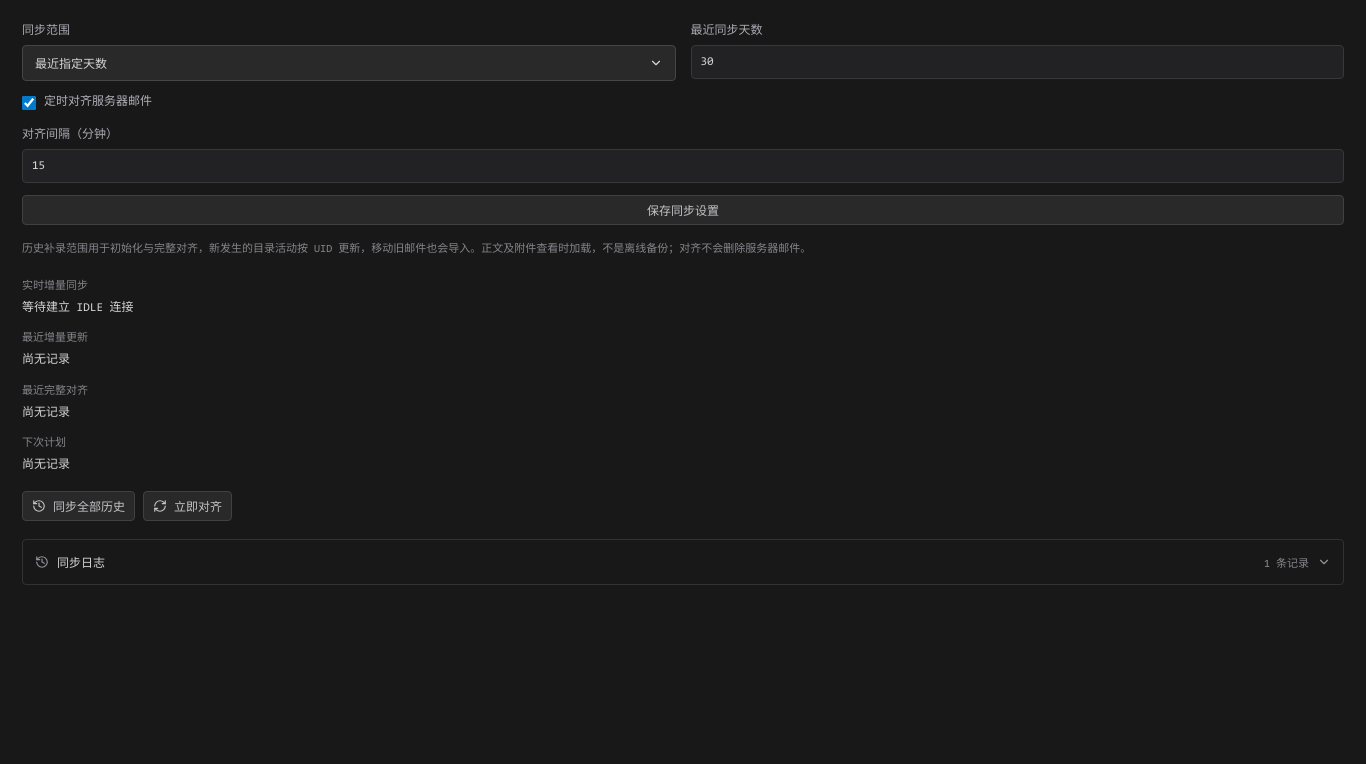
Test: 目录任务归入增量日志并显示 UID 范围和事件原因
Click the text "同步日志".
click(81, 562)  # box x1=57 y1=553 x2=105 y2=571
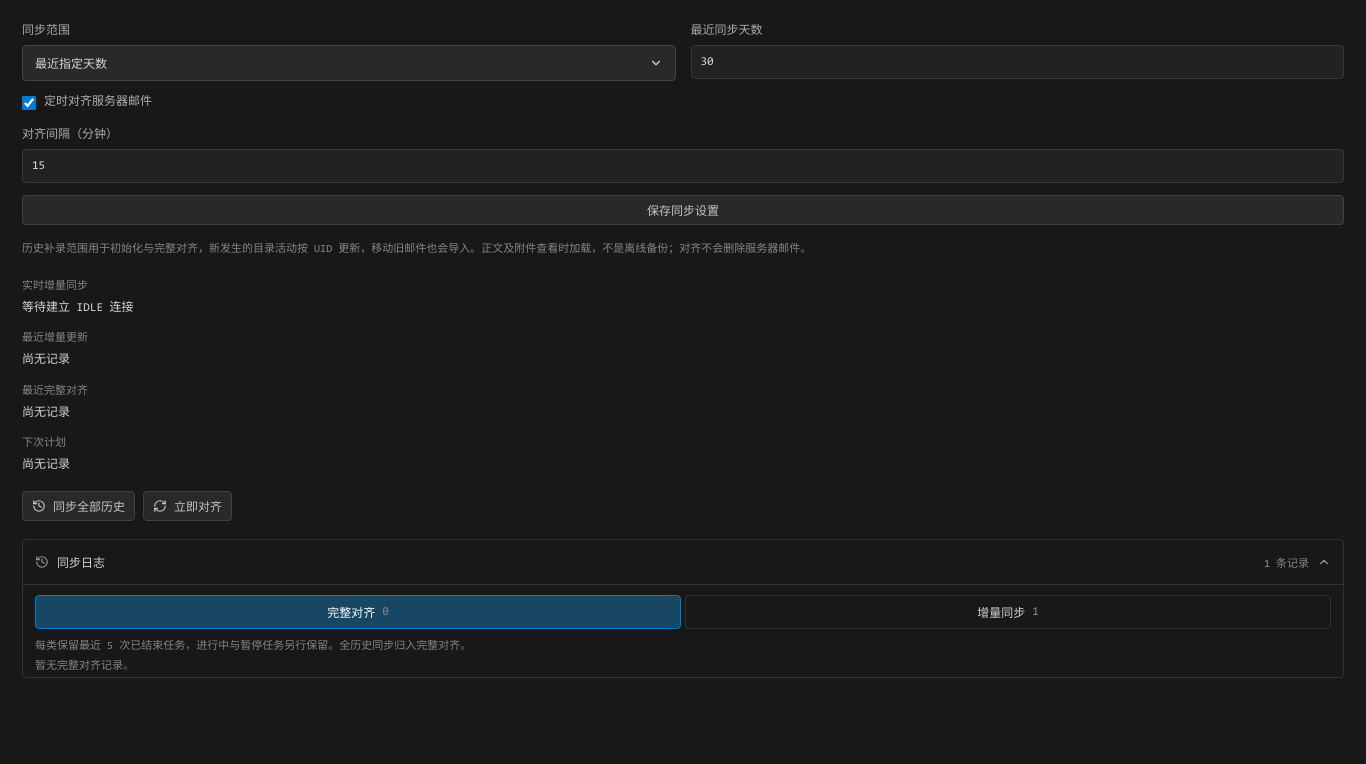
Expected: the button "目录增量" is not shown
Click the tab "增量同步 1".
click(1008, 612)  # box x1=685 y1=595 x2=1331 y2=629
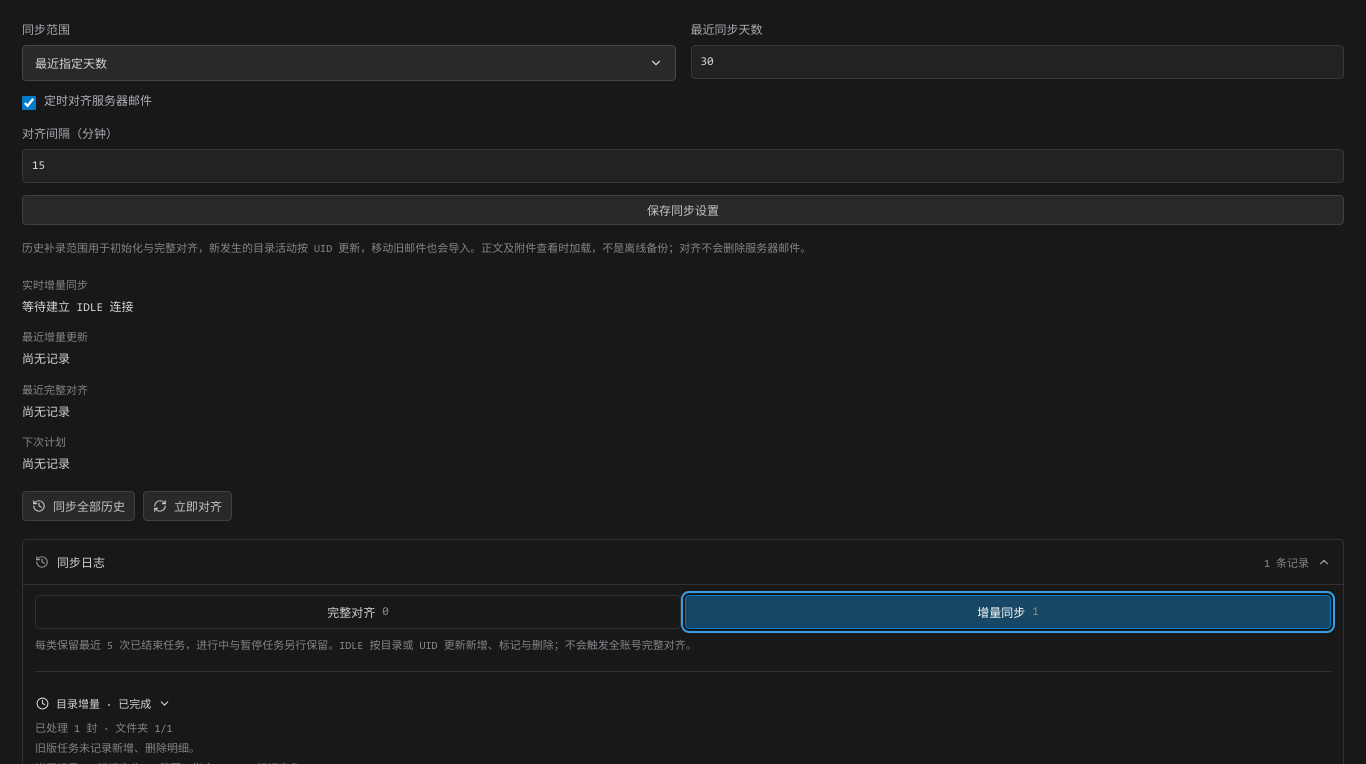
Expected: the tab "完整对齐 0" is shown, x1=35 y1=595 x2=681 y2=629
Expected: the button "目录增量 · 已完成" is shown, x1=35 y1=686 x2=172 y2=720
